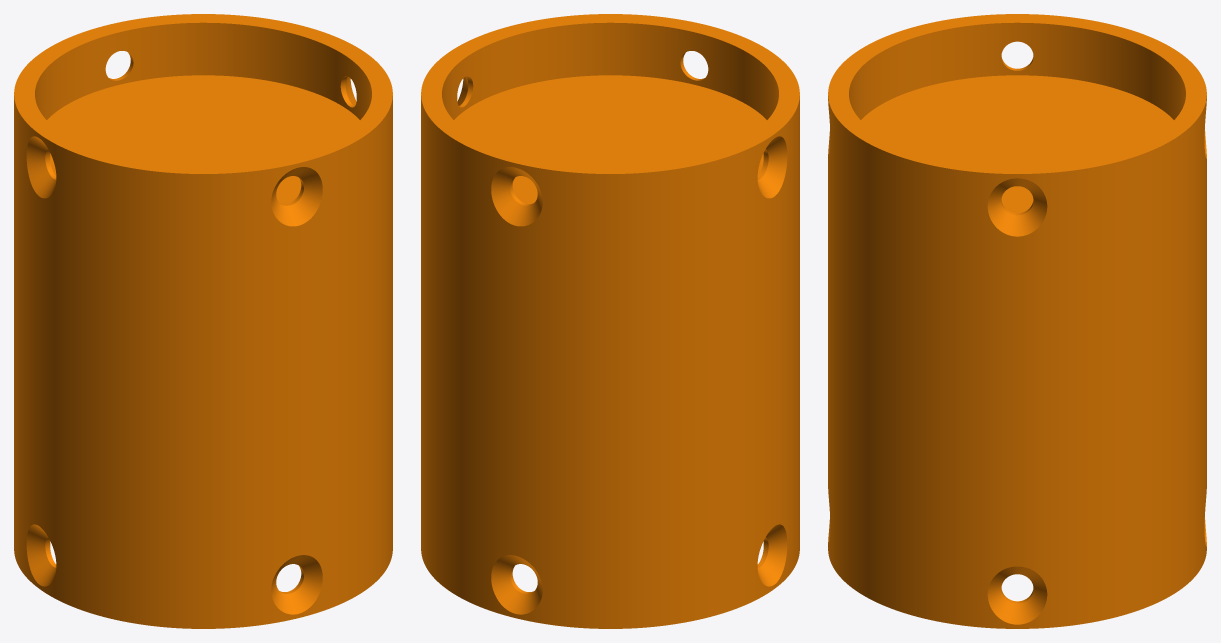
File: Exc_Motor_5203_2402_0188_53.obj
3 renders of one model, left to right at view 1: azimuth 30°, elevation 25°; view 2: azimuth 150°, elevation 25°; view 3: azimuth 270°, elevation 25°, orthographic.
Visible parts, largest first — view 1: mesh28607; view 2: mesh28607; view 3: mesh28607.
Part boxes in pixels (x1,y1,x2,y2): mesh28607: (14,14,392,628); mesh28607: (421,14,799,628); mesh28607: (828,14,1206,628).
Size of the model in its own units: 0.036 by 0.0476 by 0.036.
